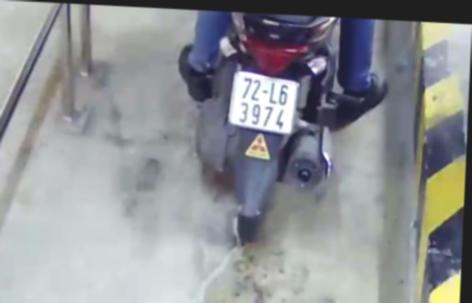License_Plate: (222, 66, 302, 139)
